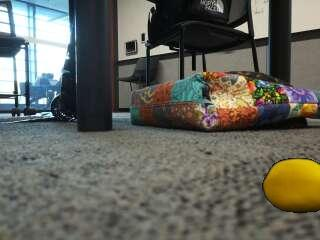lemon: (264, 159, 320, 210)
